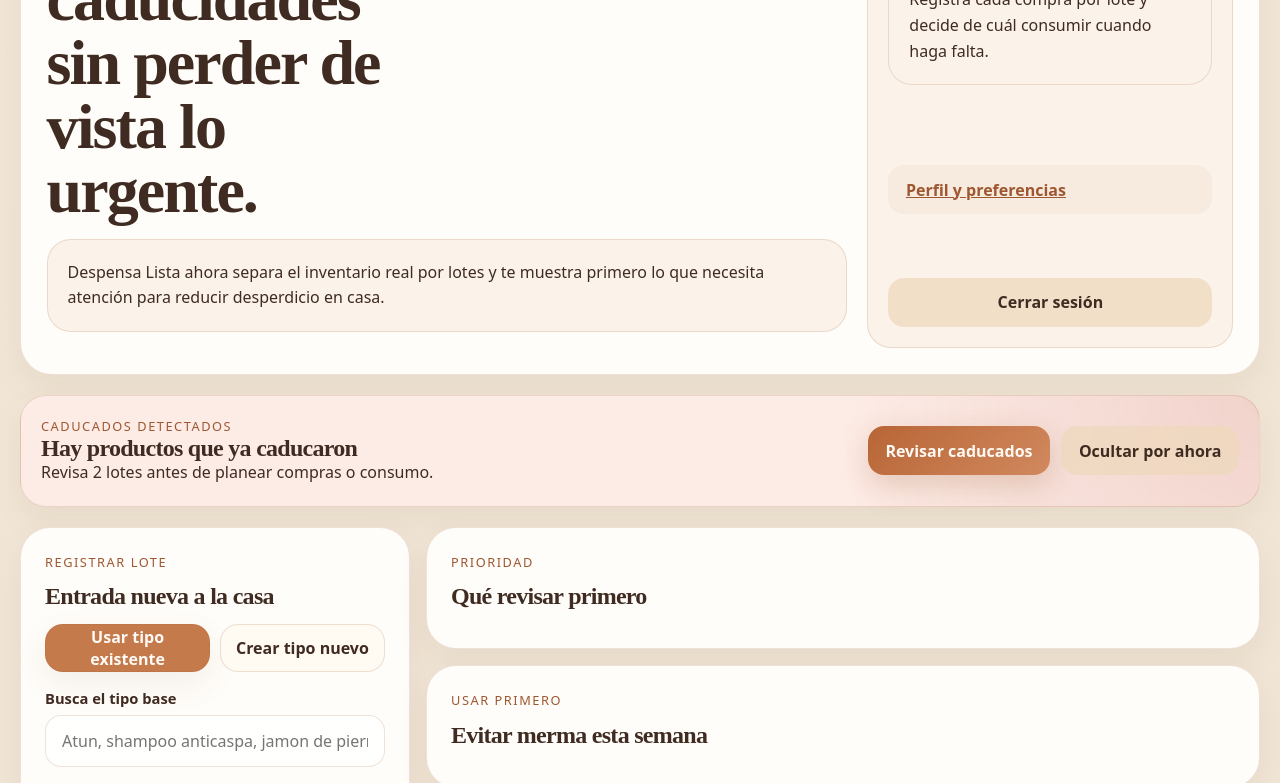
Test: PantryPageComponent › shows and dismisses the expired entry alert for the current pantry visit
(page scrolled)
Click the button with test id "dismiss-expired-alert" at (1150, 451), box left=1061, top=426, right=1239, bottom=475
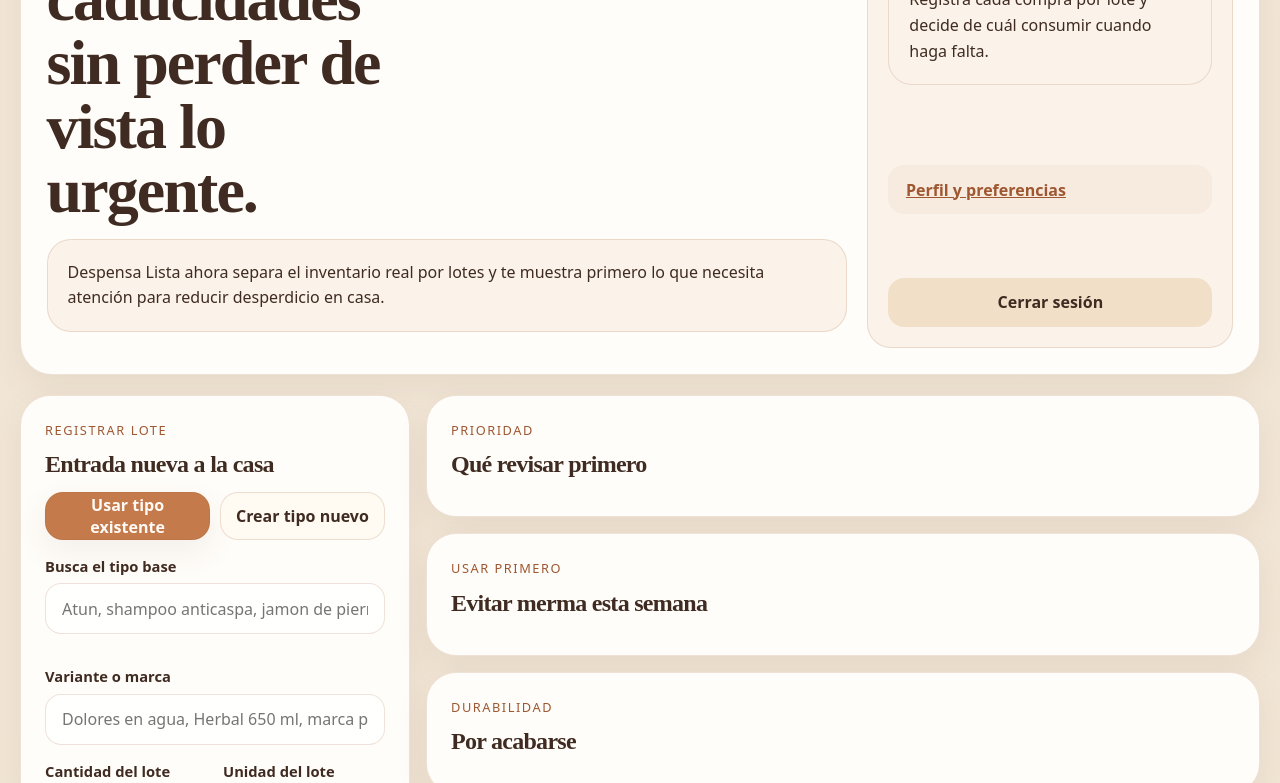
expect the message with test id "expired-entry-alert" is gone: met
